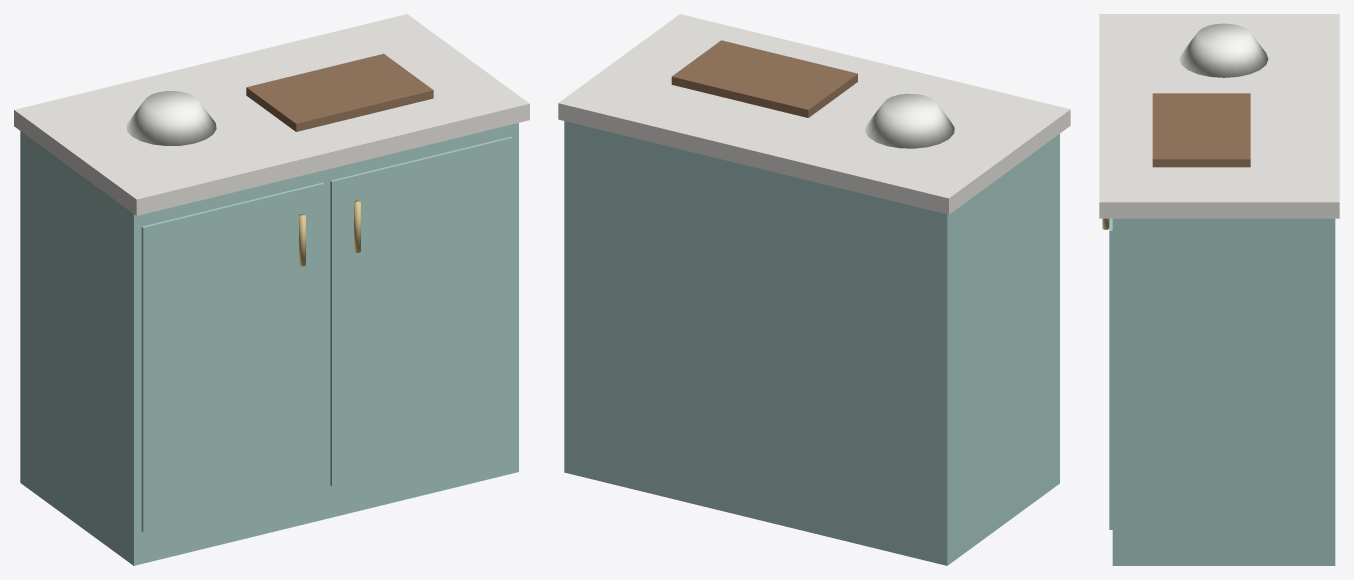
The model's file is prep_counter.glb.
3 views of the same model, side by side, from view 1: azimuth 30°, elevation 25°; view 2: azimuth 150°, elevation 25°; view 3: azimuth 270°, elevation 25° (orthographic).
Visible parts, largest first — view 1: prep_counter; view 2: prep_counter; view 3: prep_counter.
Part boxes in pixels (x1,y1,x2,y2): prep_counter: (14,14,529,565); prep_counter: (558,14,1070,565); prep_counter: (1099,14,1339,565).
Size of the model in its own units: 1 by 0.97 by 0.54.
